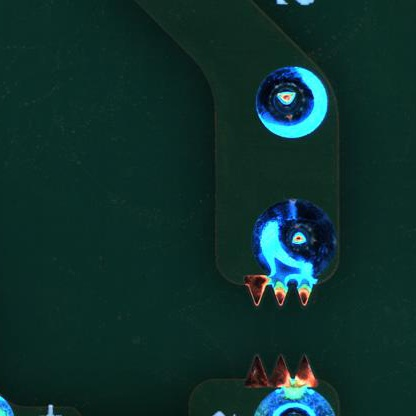spot: (235, 189, 345, 314), (248, 65, 331, 143)
